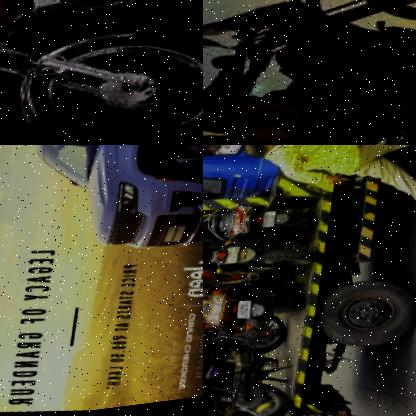bike: (203, 0, 416, 145), (203, 319, 292, 416), (203, 267, 304, 346), (203, 192, 324, 255), (203, 230, 321, 294)
car: (13, 145, 203, 275)
